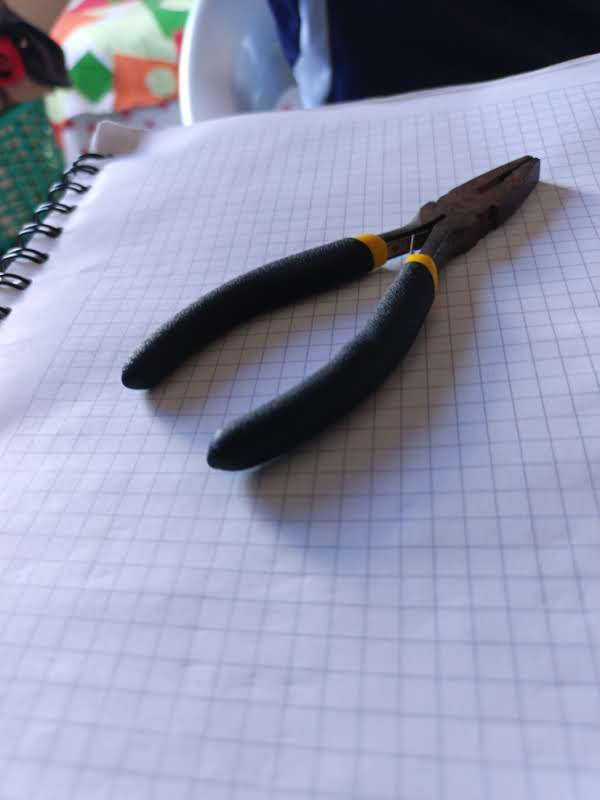Pinzas: (123, 156, 538, 469)
